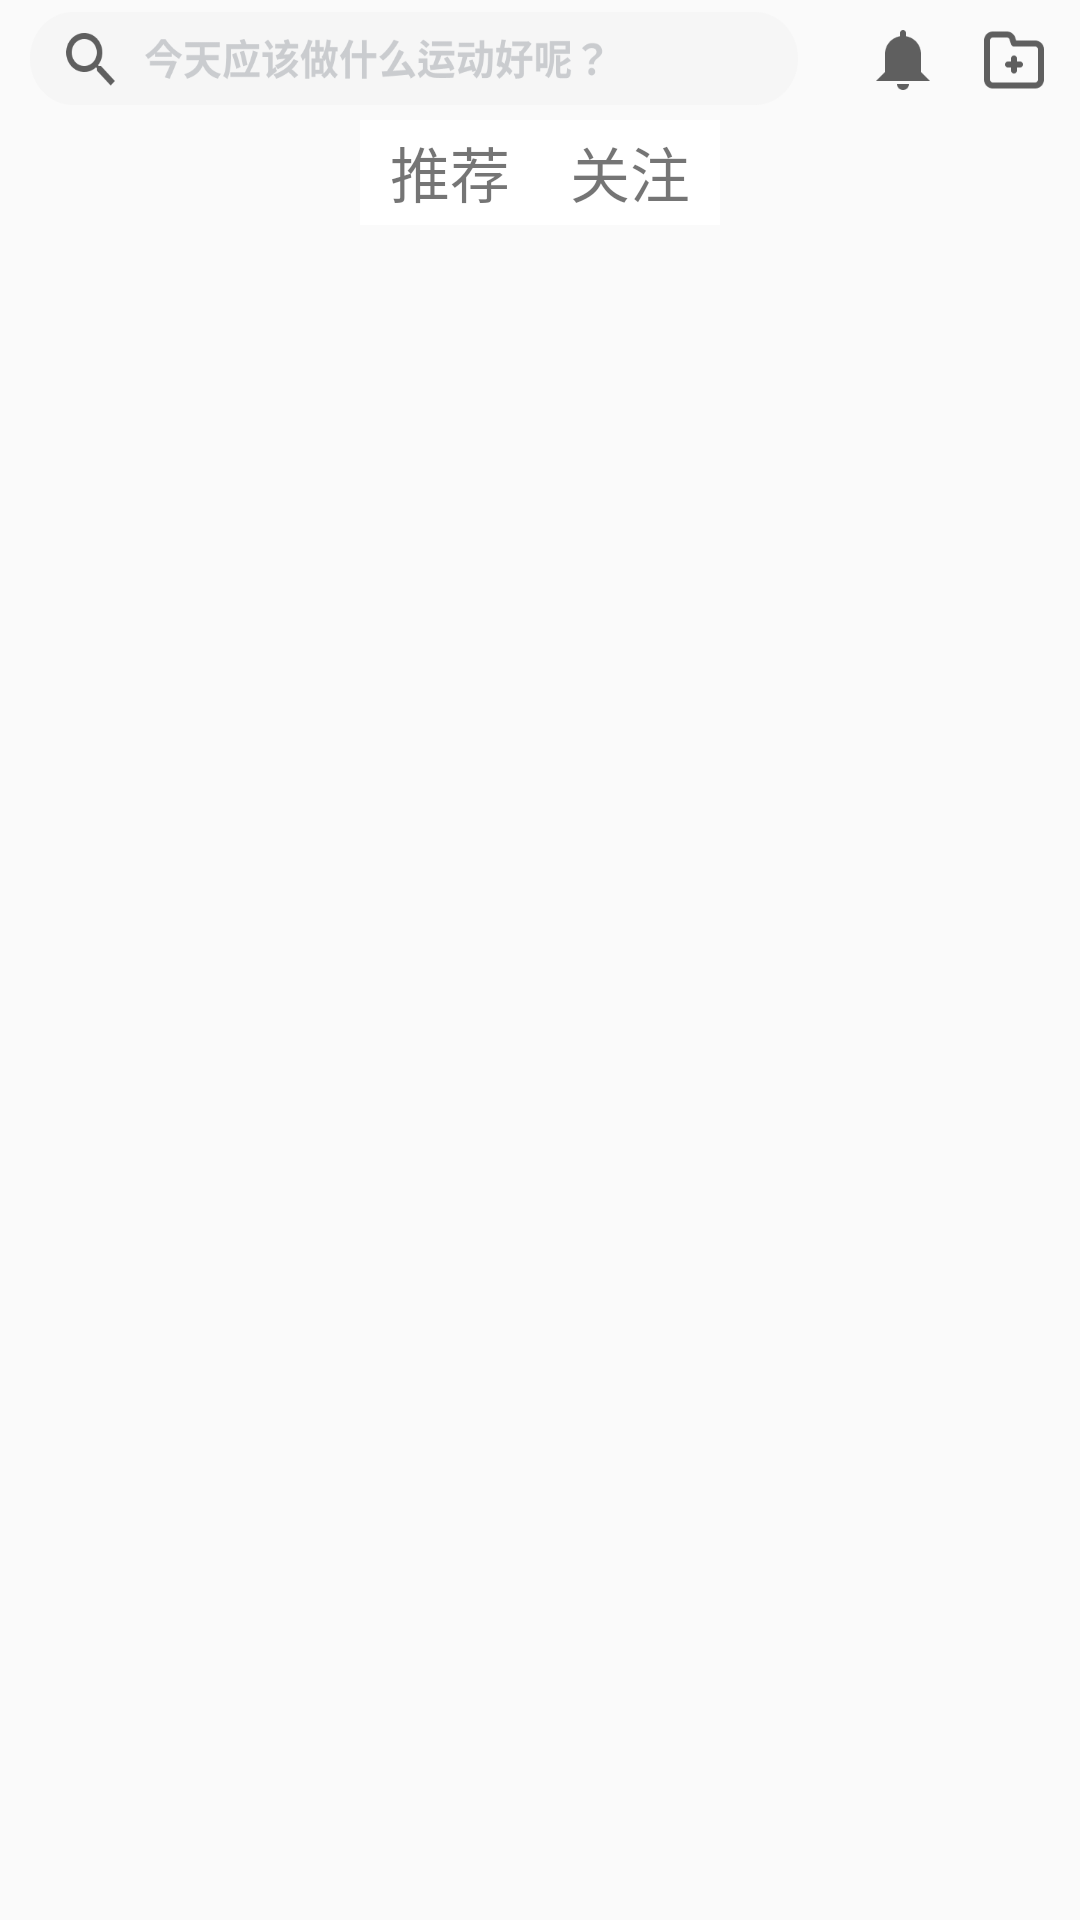

Screen size 1080*1920. Icon name, then its box in pixels as (x1, y1, x2, y2):
add folder: (984, 31, 1044, 89)
bell: (876, 30, 930, 90)
